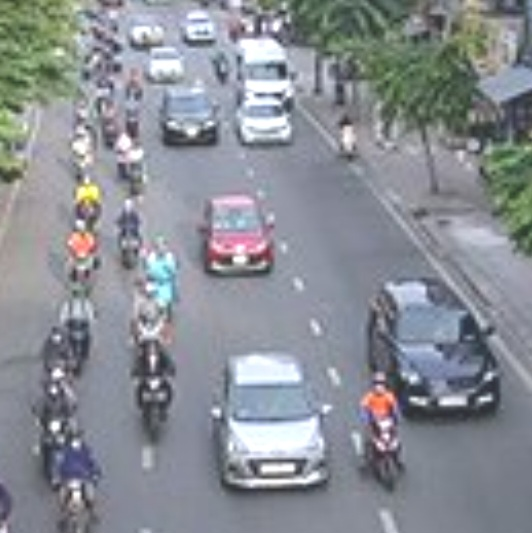car: (370, 281, 503, 413), (215, 354, 333, 492), (198, 195, 278, 279), (161, 85, 217, 145), (237, 96, 292, 146), (147, 47, 187, 84)
